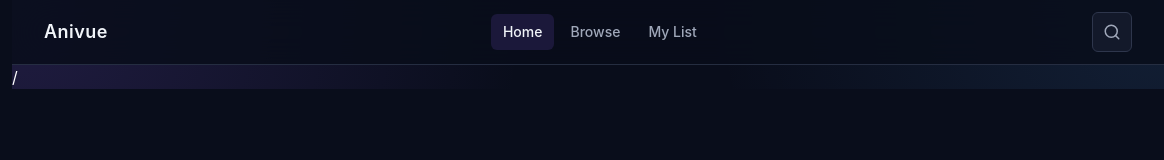
Test case: Navbar search › navigates immediately when Enter is pressed
This screenshot has width=1164, height=160.
Click the button named "Open search" at {"x": 1112, "y": 32}, box [1092,12,1132,52]
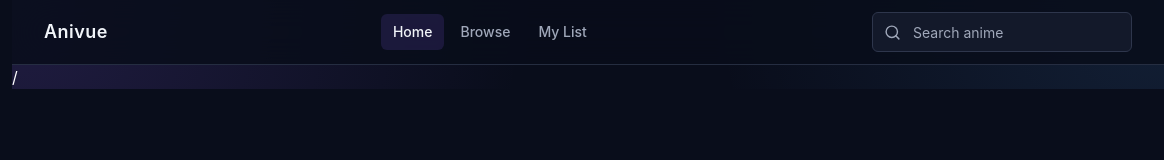
Type "bleach" into the field labelled "Search anime" at {"x": 1002, "y": 32}, box [872,12,1132,52]
Then press Enter
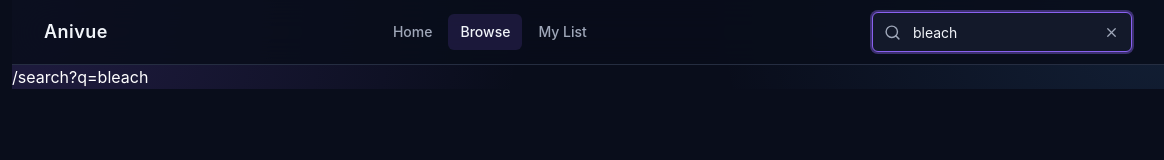
Result: the text with test id "location" reads "/search?q=bleach" at [12,67,148,87]
